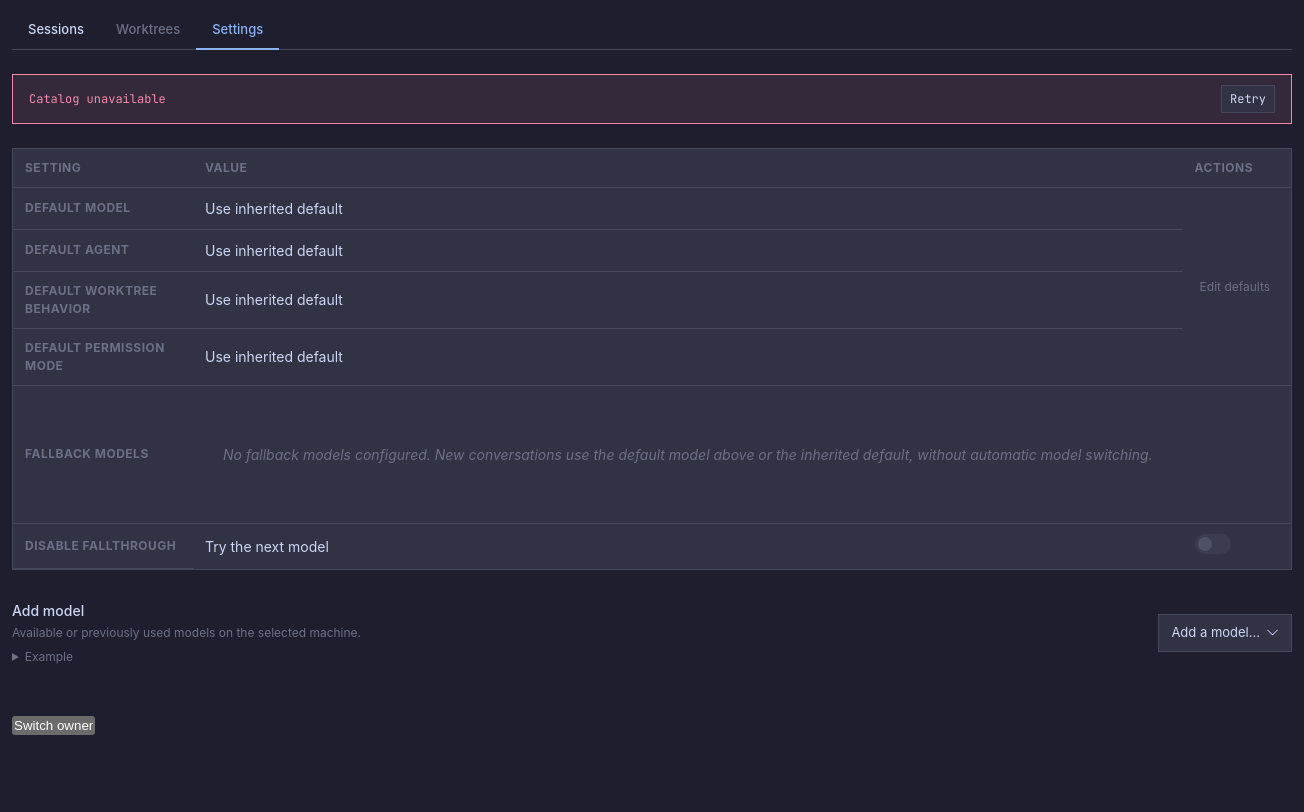
Test: ProjectSettingsView › surfaces catalog errors and retries on the same owner
Expected: the message shows "Catalog unavailable", top-left (29, 90), bottom-right (166, 106)
Click the button "Retry": (1248, 98) top-left (1221, 84), bottom-right (1275, 112)
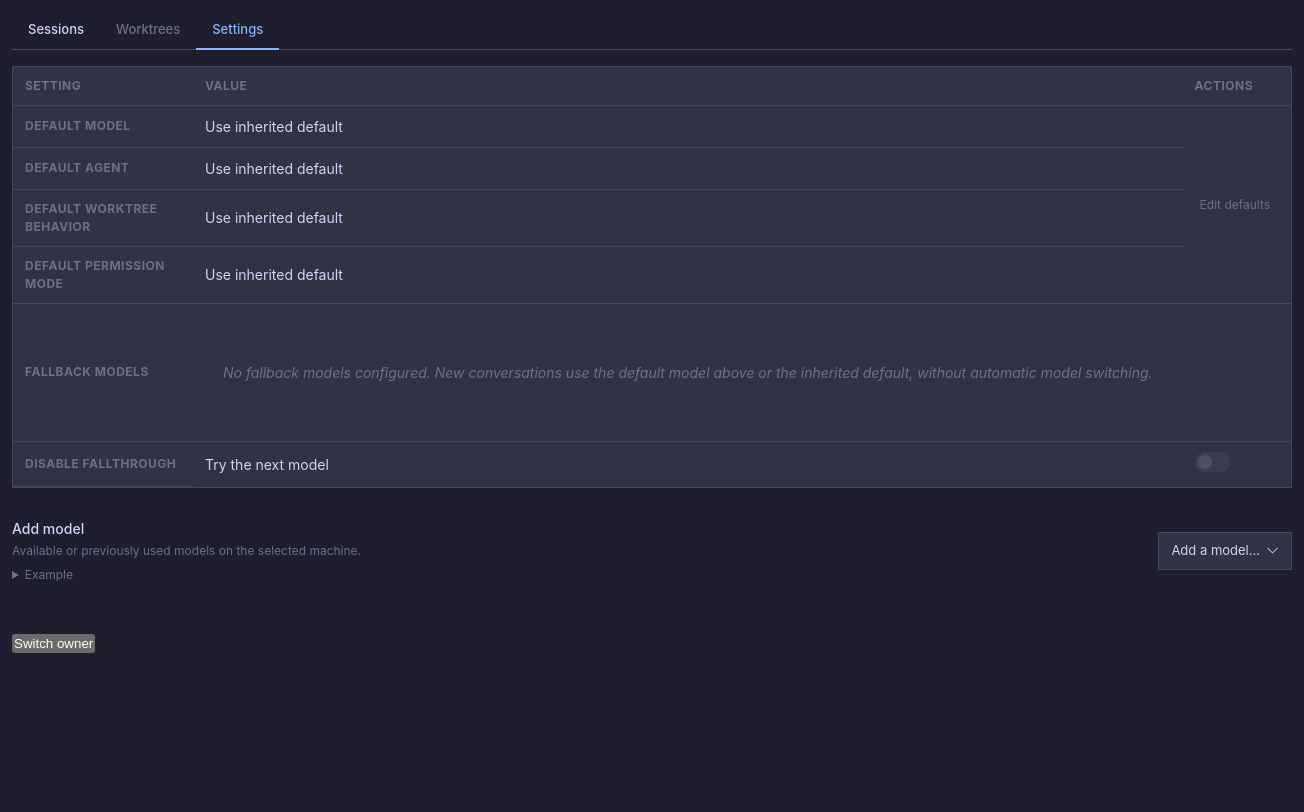
Now the message "Catalog unavailable Retry" is gone
